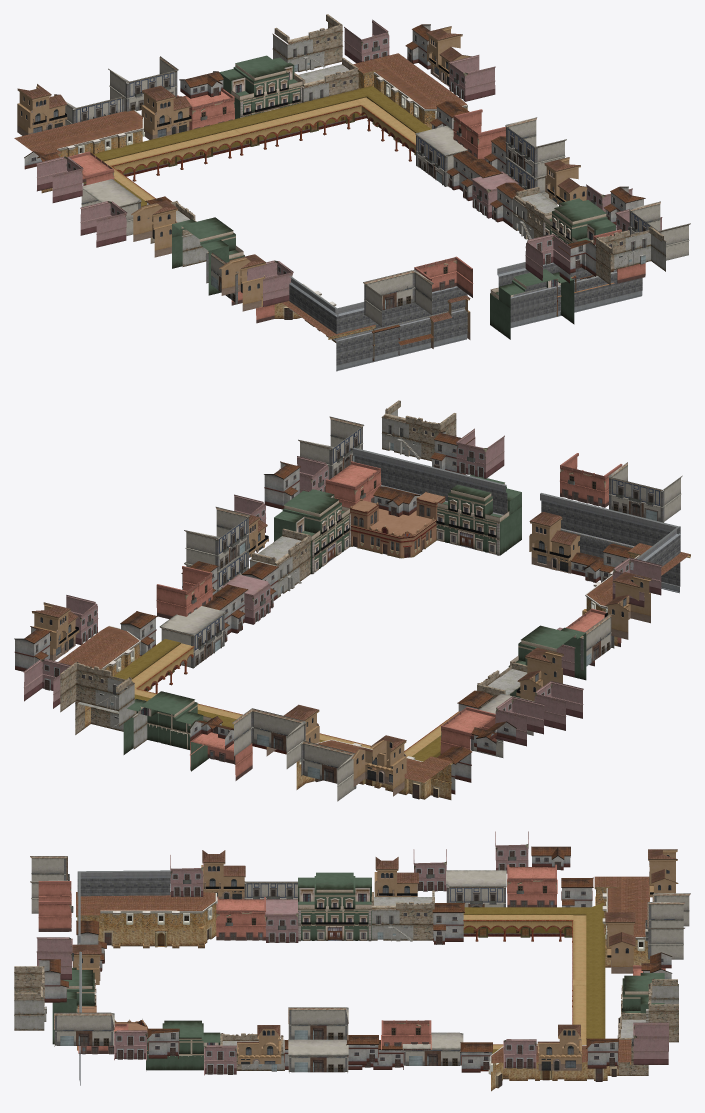
File: level4.dae
The picture shows the model from 3 angles, top to bottom: view 1: azimuth 30°, elevation 25°; view 2: azimuth 150°, elevation 25°; view 3: azimuth 270°, elevation 25°; orthographic projection. The views are drawn at different scales.
Parts seen in each view (by area): view 1: polySurface683, SM_MC_buildingbig (×2), pasted__SM_MC_church_insidebuilding_middle (×2), pasted__SM_MC_church_archwall_middle (×2), SM_MC_buildingbig5, SM_MC_building048, SM_MC_building077, SM_MC_building057, SM_MC_building074, SM_MC_building07, SM_MC_building073, SM_MC_building063 (+38 smaller); view 2: polySurface683, SM_MC_building073, SM_mc_new_building06, SM_MC_buildingbig (×2), SM_MC_building07, SM_MC_building048, SM_MC_building057, SM_MC_building058, SM_MC_building074, SM_MC_building038, SM_MC_building077, SM_MC_building039 (+42 smaller); view 3: SM_MC_buildingbig (×2), SM_MC_building063, polySurface683, SM_MC_building070, pasted__SM_MC_church_insidebuilding_middle (×2), SM_MC_buildingbig5, SM_MC_building069, SM_MC_building07, SM_MC_building062, SM_MC_building068, SM_MC_building058, SM_MC_building043 (+45 smaller).
Part boxes in pixels (box(x1,y1,x2,y2)): polySurface683: box(289, 244, 642, 371); SM_MC_buildingbig (×2): box(14, 110, 375, 360); pasted__SM_MC_church_insidebuilding_middle (×2): box(83, 86, 371, 185); pasted__SM_MC_church_archwall_middle (×2): box(103, 97, 372, 181); SM_MC_buildingbig5: box(353, 53, 467, 128); SM_MC_building048: box(219, 55, 303, 118); SM_MC_building077: box(595, 226, 666, 284); SM_MC_building057: box(272, 14, 343, 72); SM_MC_building074: box(363, 270, 433, 326); SM_MC_building07: box(543, 198, 615, 244); SM_MC_building073: box(490, 269, 574, 339); SM_MC_building063: box(172, 217, 244, 295); polySurface683: box(353, 447, 680, 593); SM_MC_building073: box(436, 475, 521, 555); SM_mc_new_building06: box(350, 491, 445, 558); SM_MC_buildingbig (×2): box(296, 543, 690, 799); SM_MC_building07: box(274, 489, 350, 574); SM_MC_building048: box(123, 691, 212, 771); SM_MC_building057: box(60, 661, 134, 726); SM_MC_building058: box(232, 708, 306, 768); SM_MC_building074: box(608, 462, 682, 522); SM_MC_building038: box(184, 507, 250, 570); SM_MC_building077: box(381, 400, 456, 461); SM_MC_building039: box(159, 606, 225, 668); SM_MC_buildingbig (×2): box(76, 876, 649, 967); SM_MC_building063: box(298, 872, 371, 941); polySurface683: box(77, 870, 170, 1085); SM_MC_building070: box(371, 890, 434, 941); pasted__SM_MC_church_insidebuilding_middle (×2): box(586, 902, 605, 1044); SM_MC_buildingbig5: box(488, 1039, 631, 1091); SM_MC_building069: box(446, 870, 506, 907); SM_MC_building07: box(146, 1020, 220, 1070); SM_MC_building062: box(216, 896, 265, 940); SM_MC_building068: box(507, 864, 557, 907); SM_MC_building058: box(645, 902, 685, 959); SM_MC_building043: box(54, 1012, 114, 1046).
Size of the model in its own units: 14102 by 18247 by 2693.
